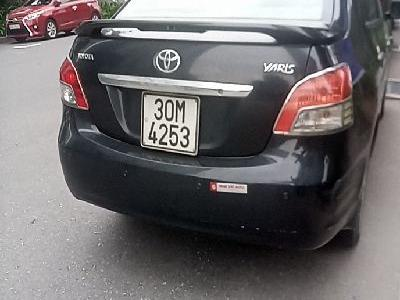lisence: (141, 90, 200, 156)
